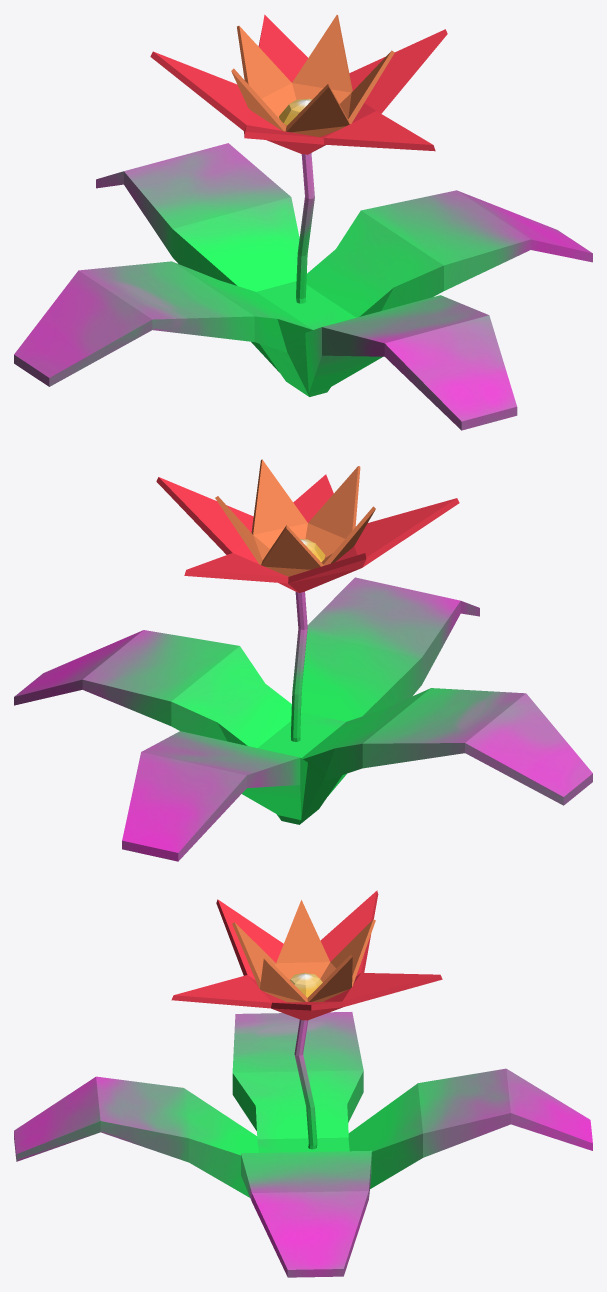
The model's file is torchflower.fbx.
3 views of the same model, one above another, from view 1: azimuth 30°, elevation 25°; view 2: azimuth 150°, elevation 25°; view 3: azimuth 270°, elevation 25° (orthographic). The views are drawn at different scales.
Parts seen in each view (by area): view 1: torchflower.003; view 2: torchflower.003; view 3: torchflower.003.
Part boxes in pixels (bbox=[...]): torchflower.003: bbox=[14, 14, 592, 430]; torchflower.003: bbox=[14, 459, 592, 861]; torchflower.003: bbox=[14, 890, 592, 1277].
Bounding box in the file's own units: 117 × 67.44 × 123.
Materials: 1 (1 with a texture image).
